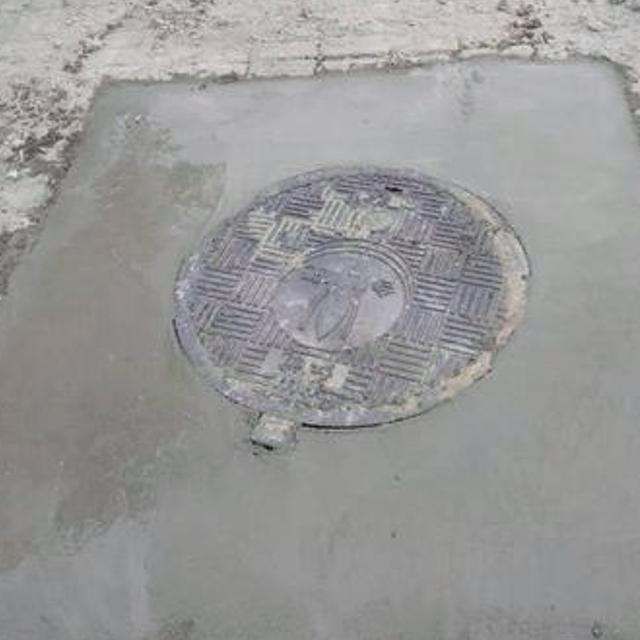good: (0, 51, 640, 640)
